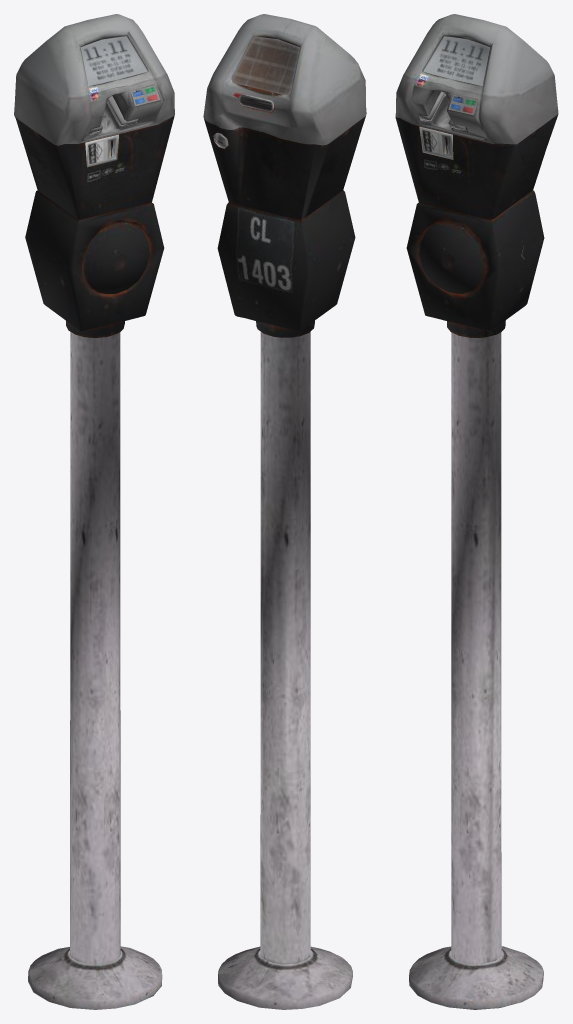
Rendered from meter.glb.
3 views of the same model, side by side, from view 1: azimuth 30°, elevation 25°; view 2: azimuth 150°, elevation 25°; view 3: azimuth 330°, elevation 25° (orthographic).
Parts seen in each view (by area): view 1: solar_low_w; view 2: solar_low_w; view 3: solar_low_w.
Boxes of the visible parts, bbox=[...] form: solar_low_w: bbox=[14, 14, 174, 1009]; solar_low_w: bbox=[203, 14, 366, 1009]; solar_low_w: bbox=[395, 14, 558, 1009].
Bounding box in the file's own units: 0.1913 × 1.45 × 0.1857.
2 materials, 2 textured.
